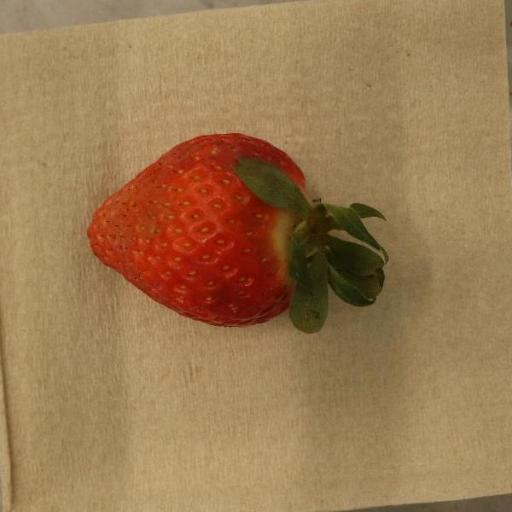Strawberry: (87, 133, 390, 335)
